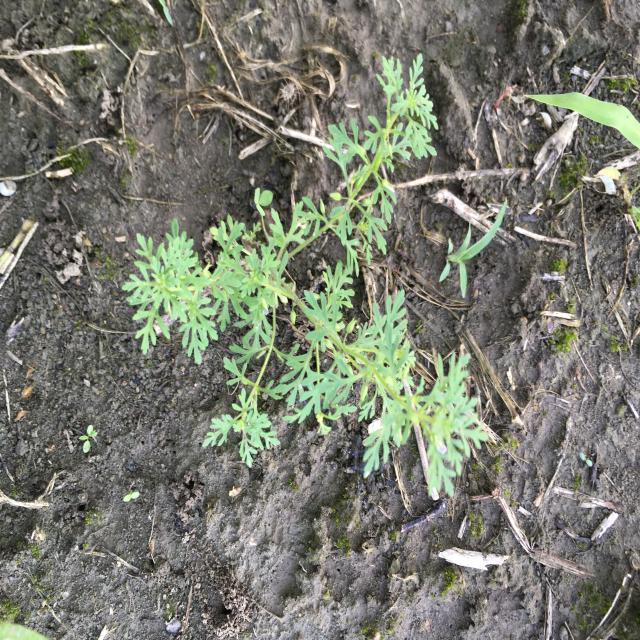Goosegrass: (439, 198, 510, 299)
Ragweed: (120, 52, 491, 502)
